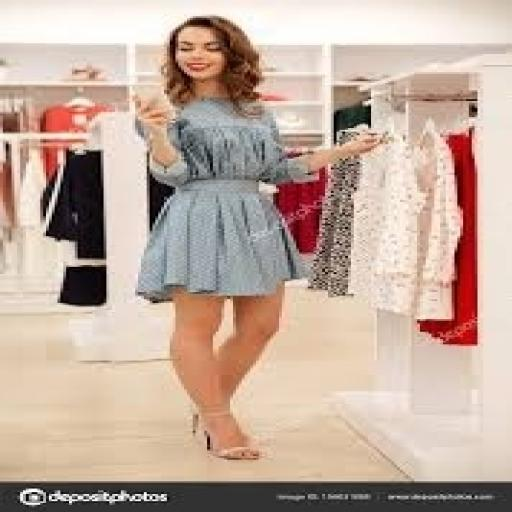texting: (126, 12, 386, 462)
